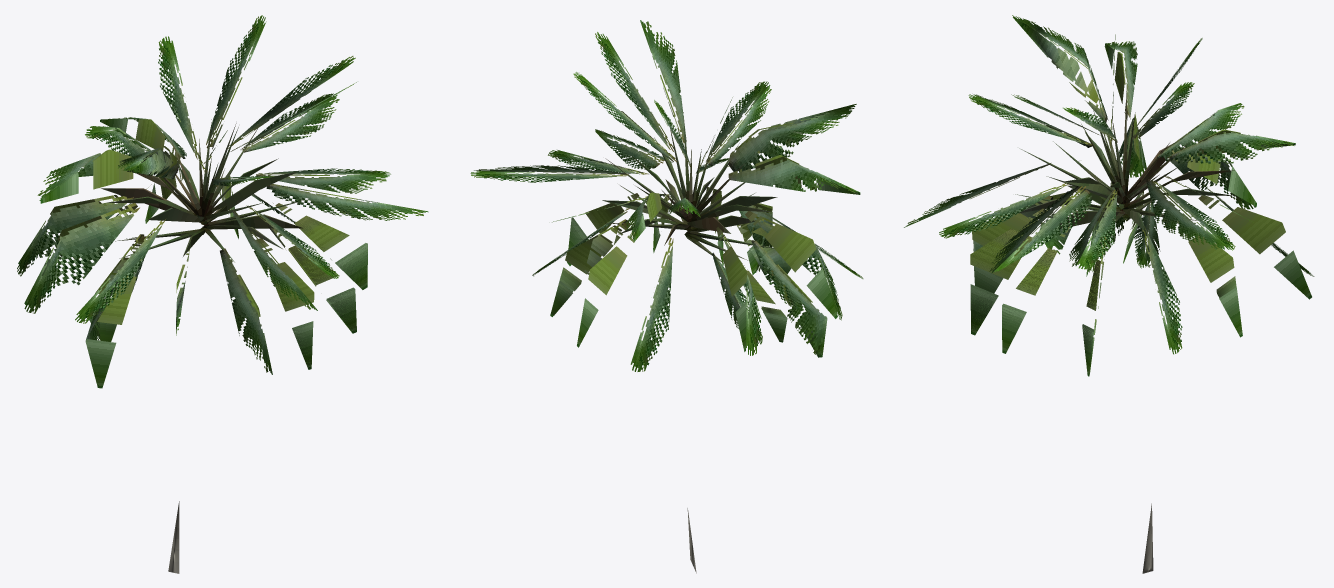
The model's file is palm-young-a.lod1.glb.
3 renders of one model, left to right at view 1: azimuth 30°, elevation 25°; view 2: azimuth 150°, elevation 25°; view 3: azimuth 270°, elevation 25°, orthographic. The views are drawn at different scales.
Parts seen in each view (by area): view 1: SM_MZRa_Palm_B081_MI_MZRa_Palm_B08a_0, SM_MZRa_Palm_B081_MI_MZRa_Palm_B08b_0; view 2: SM_MZRa_Palm_B081_MI_MZRa_Palm_B08a_0, SM_MZRa_Palm_B081_MI_MZRa_Palm_B08b_0; view 3: SM_MZRa_Palm_B081_MI_MZRa_Palm_B08a_0, SM_MZRa_Palm_B081_MI_MZRa_Palm_B08b_0.
Part boxes in pixels (bbox=[...]): SM_MZRa_Palm_B081_MI_MZRa_Palm_B08a_0: bbox=[17, 15, 428, 388]; SM_MZRa_Palm_B081_MI_MZRa_Palm_B08b_0: bbox=[101, 119, 307, 573]; SM_MZRa_Palm_B081_MI_MZRa_Palm_B08a_0: bbox=[470, 20, 863, 371]; SM_MZRa_Palm_B081_MI_MZRa_Palm_B08b_0: bbox=[601, 112, 777, 573]; SM_MZRa_Palm_B081_MI_MZRa_Palm_B08a_0: bbox=[904, 15, 1314, 376]; SM_MZRa_Palm_B081_MI_MZRa_Palm_B08b_0: bbox=[1015, 86, 1234, 573].
Size of the model in its own units: 3.7 by 5 by 3.49.
Materials: 2 (2 with a texture image).
